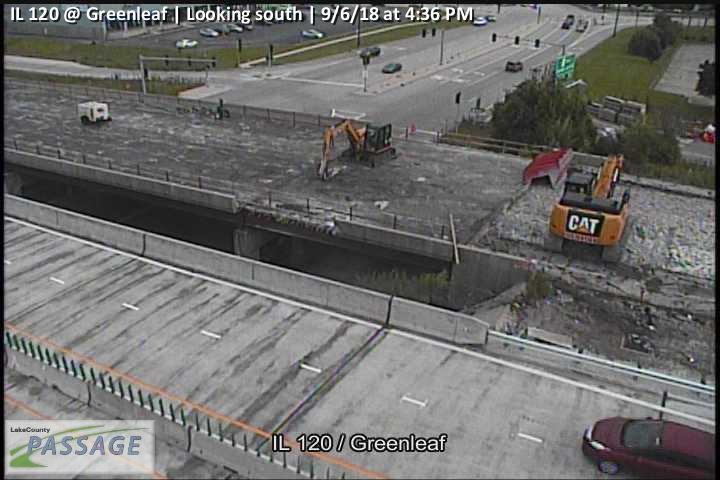SUV: (301, 28, 323, 38), (176, 38, 198, 47), (506, 60, 523, 71)
Sedan: (581, 416, 715, 480), (382, 61, 402, 73), (360, 45, 380, 57)
Truck: (543, 150, 632, 262), (317, 117, 396, 182), (76, 101, 108, 124)
